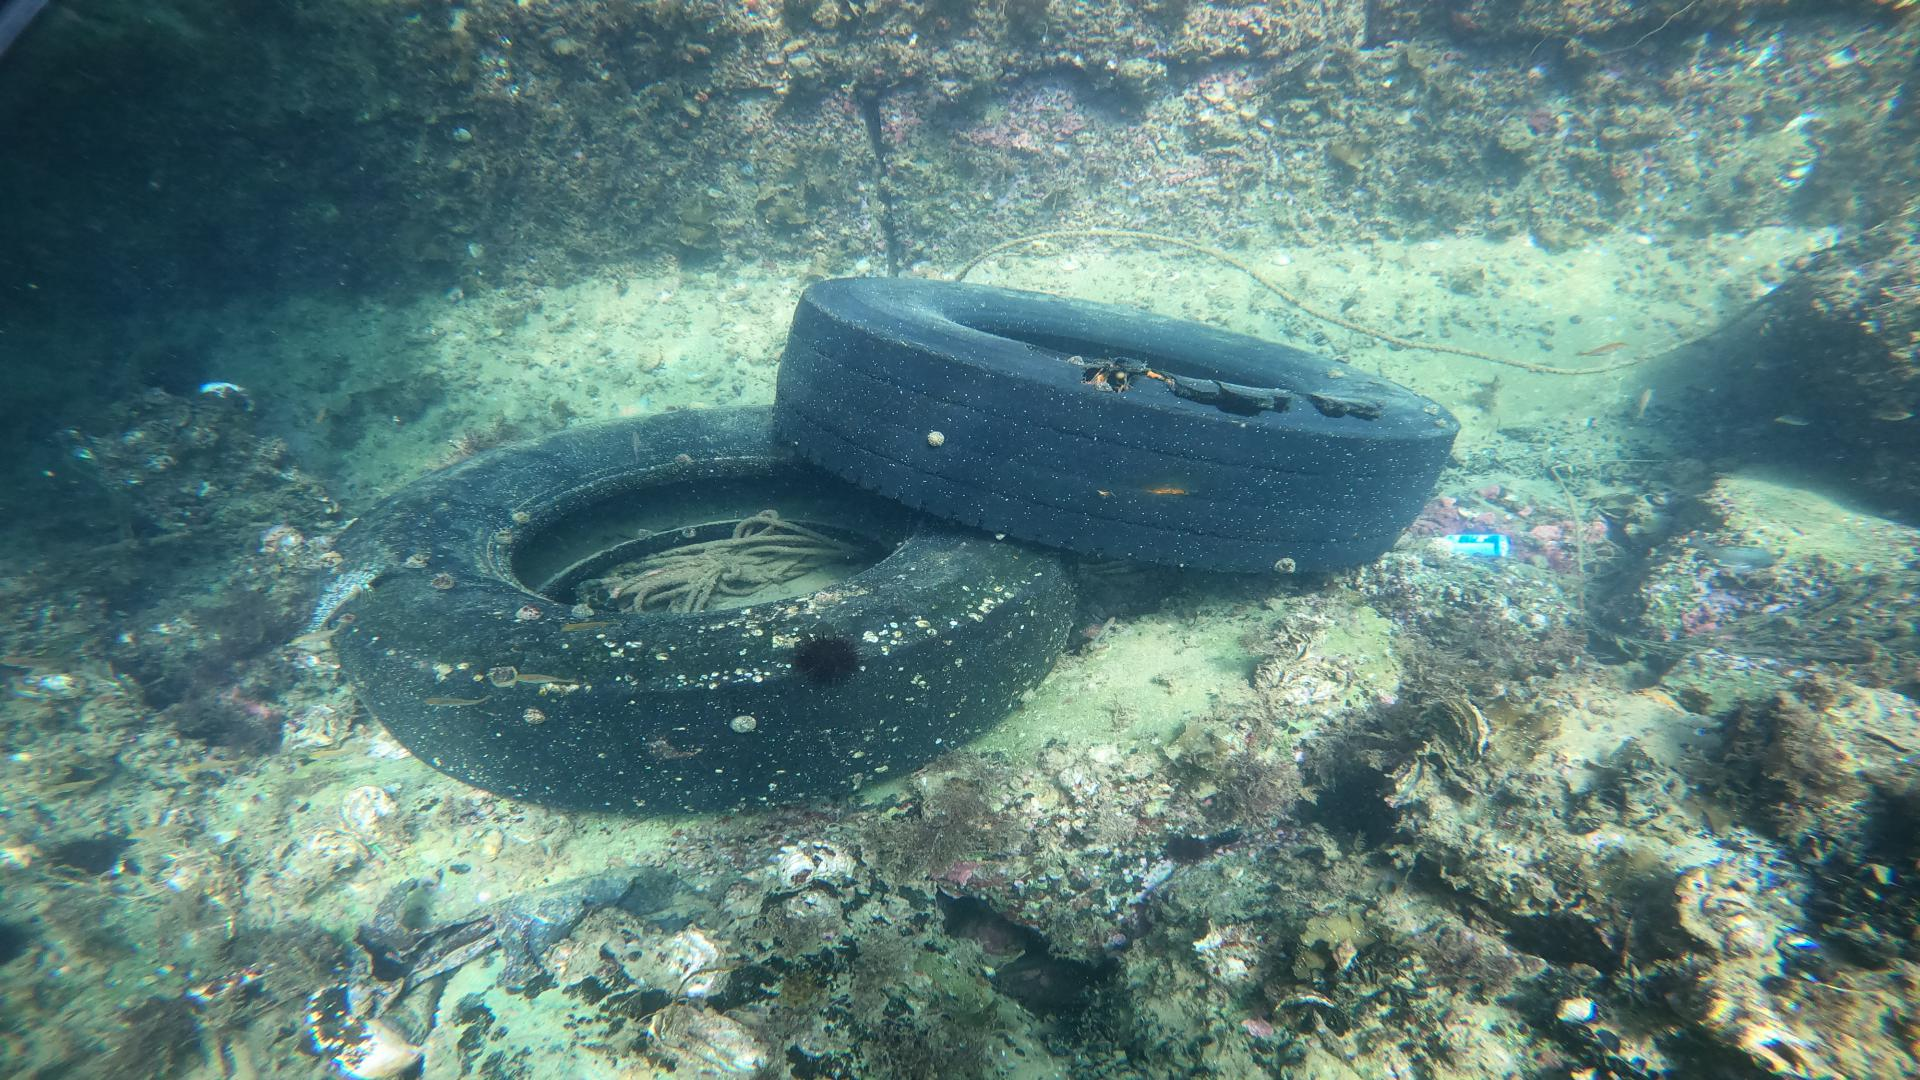tire: (323, 404, 1091, 811), (766, 272, 1460, 575)
